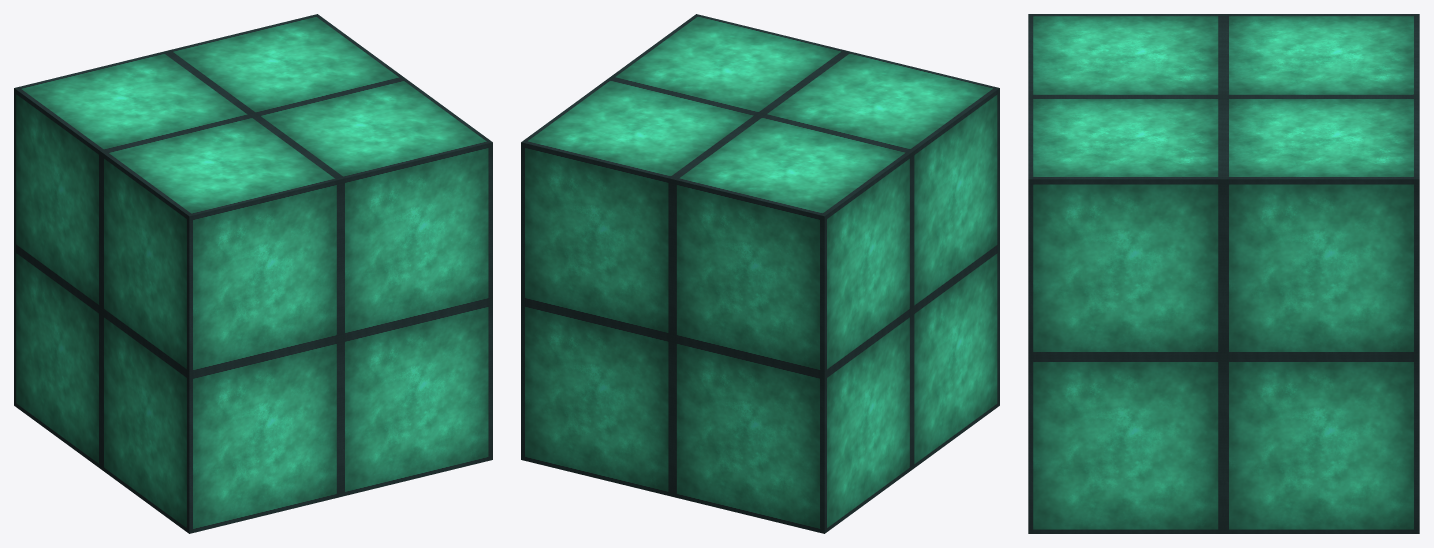
The model's file is MoveScaffoldStage2.glb.
The picture shows the model from 3 angles, left to right: view 1: azimuth 30°, elevation 25°; view 2: azimuth 150°, elevation 25°; view 3: azimuth 270°, elevation 25°; orthographic projection. The views are drawn at different scales.
Parts seen in each view (by area): view 1: MoveScaffoldStage0_0.002; view 2: MoveScaffoldStage0_0.002; view 3: MoveScaffoldStage0_0.002.
Part boxes in pixels (box(x1,y1,x2,y2)): MoveScaffoldStage0_0.002: box(14, 14, 492, 533); MoveScaffoldStage0_0.002: box(521, 14, 999, 533); MoveScaffoldStage0_0.002: box(1028, 14, 1419, 533).
Size of the model in its own units: 40 by 40 by 40.
1 material, 1 textured.
